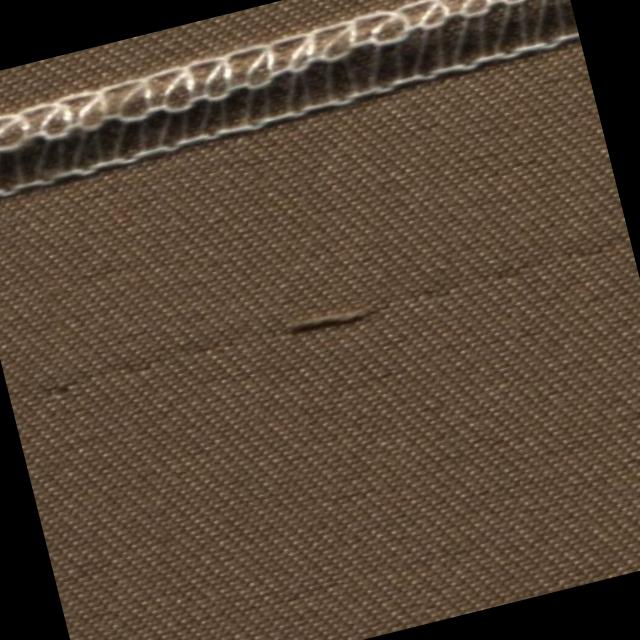gray stitch: (0, 0, 586, 219)
